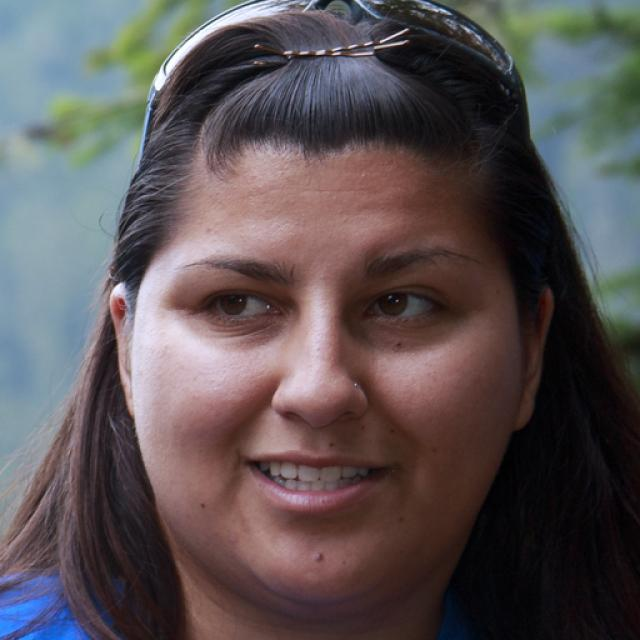Acne: (308, 546, 328, 569)
Dark Circle: (346, 316, 455, 351), (197, 311, 291, 351)
